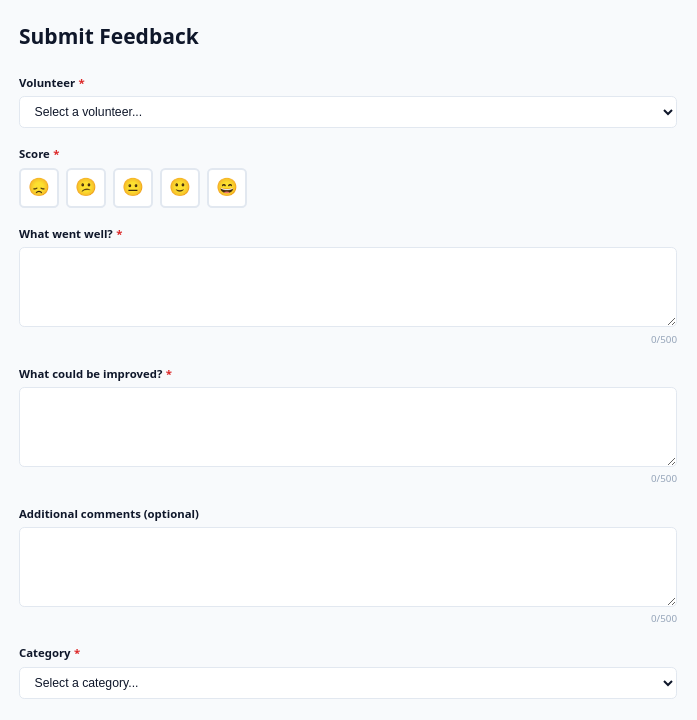
Test case: FeedbackContent › Form validation on blur (valid and invalid inputs) › shows validation error for category when left unselected after blur
This screenshot has width=697, height=720.
Click the dropdown labelled "Category*": (348, 683) [19,667,677,699]
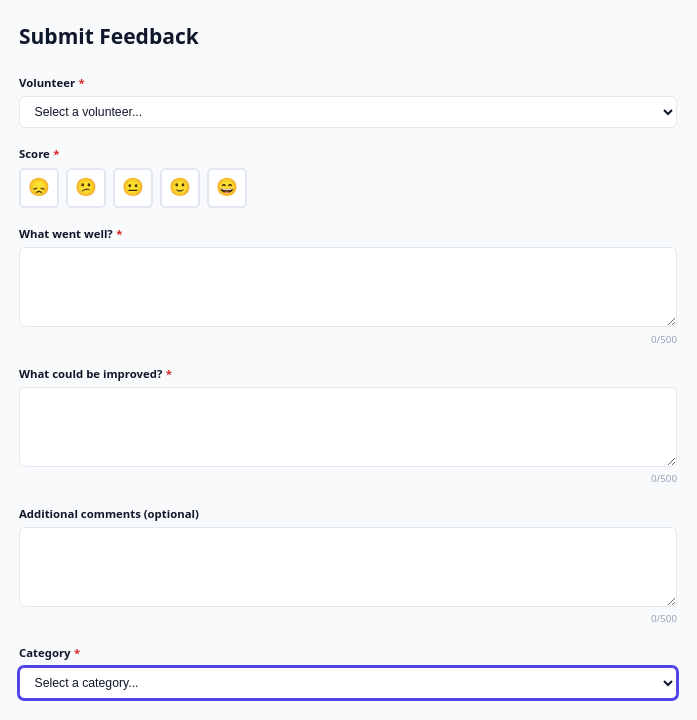
Press Tab
(page scrolled)
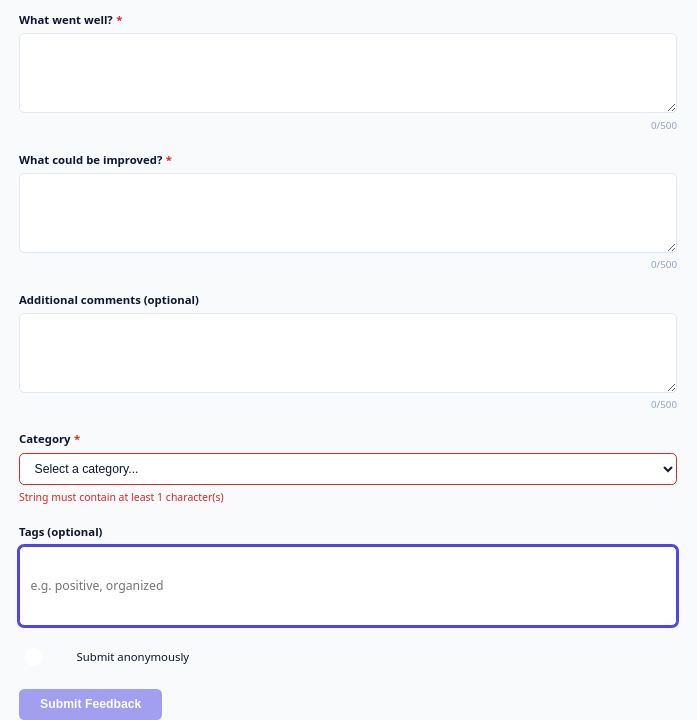
Result: the text "String must contain at least 1 character(s)" is shown at [19,490,224,504]
